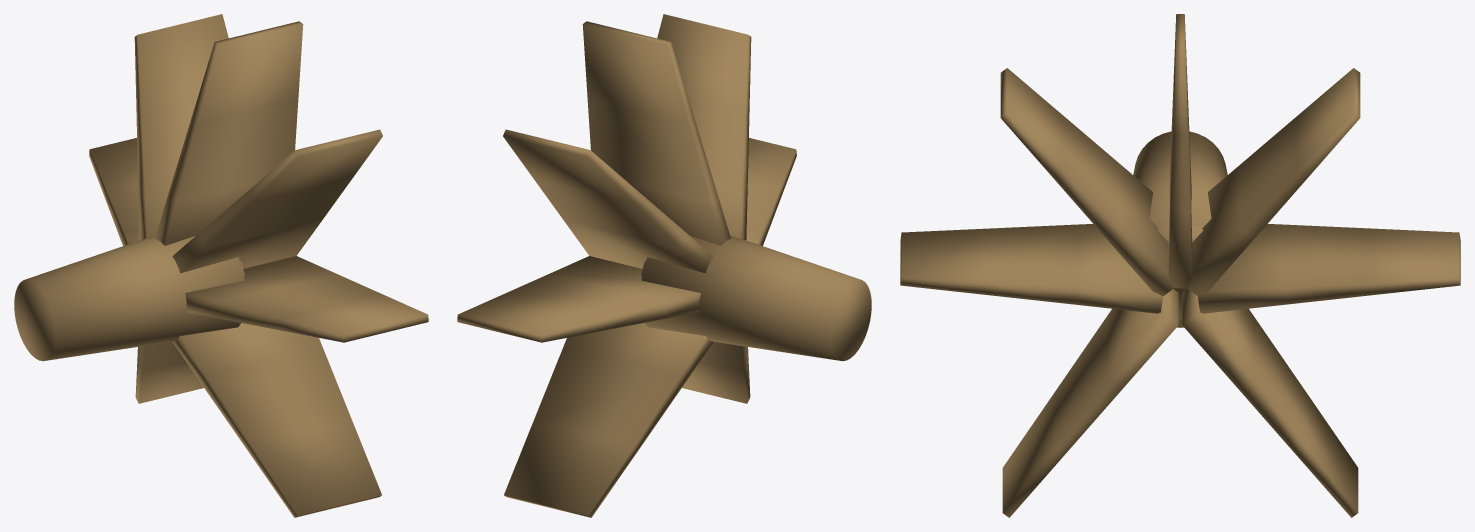
Rendered from UK_SSN_Trafalgar_PROPULSOR_01.fbx.
The picture shows the model from 3 angles, left to right: view 1: azimuth 30°, elevation 25°; view 2: azimuth 150°, elevation 25°; view 3: azimuth 270°, elevation 25°; orthographic projection. The views are drawn at different scales.
Parts seen in each view (by area): view 1: UK_SSN_Trafalgar_PROPULSOR_01; view 2: UK_SSN_Trafalgar_PROPULSOR_01; view 3: UK_SSN_Trafalgar_PROPULSOR_01.
Part boxes in pixels (bbox=[...]): UK_SSN_Trafalgar_PROPULSOR_01: bbox=[14, 14, 428, 517]; UK_SSN_Trafalgar_PROPULSOR_01: bbox=[457, 14, 871, 517]; UK_SSN_Trafalgar_PROPULSOR_01: bbox=[900, 14, 1460, 517].
Bounding box in the file's own units: 2.2 × 3.65 × 3.3.
